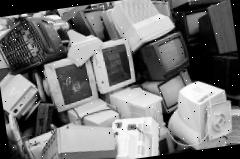electronic: (36, 40, 104, 116), (87, 26, 146, 112), (135, 28, 203, 82), (138, 68, 203, 118)
